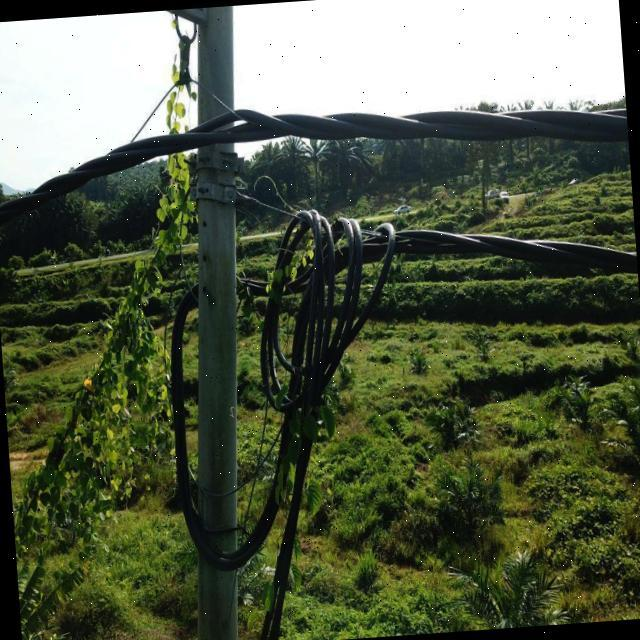critical vegetation: (0, 24, 242, 551)
